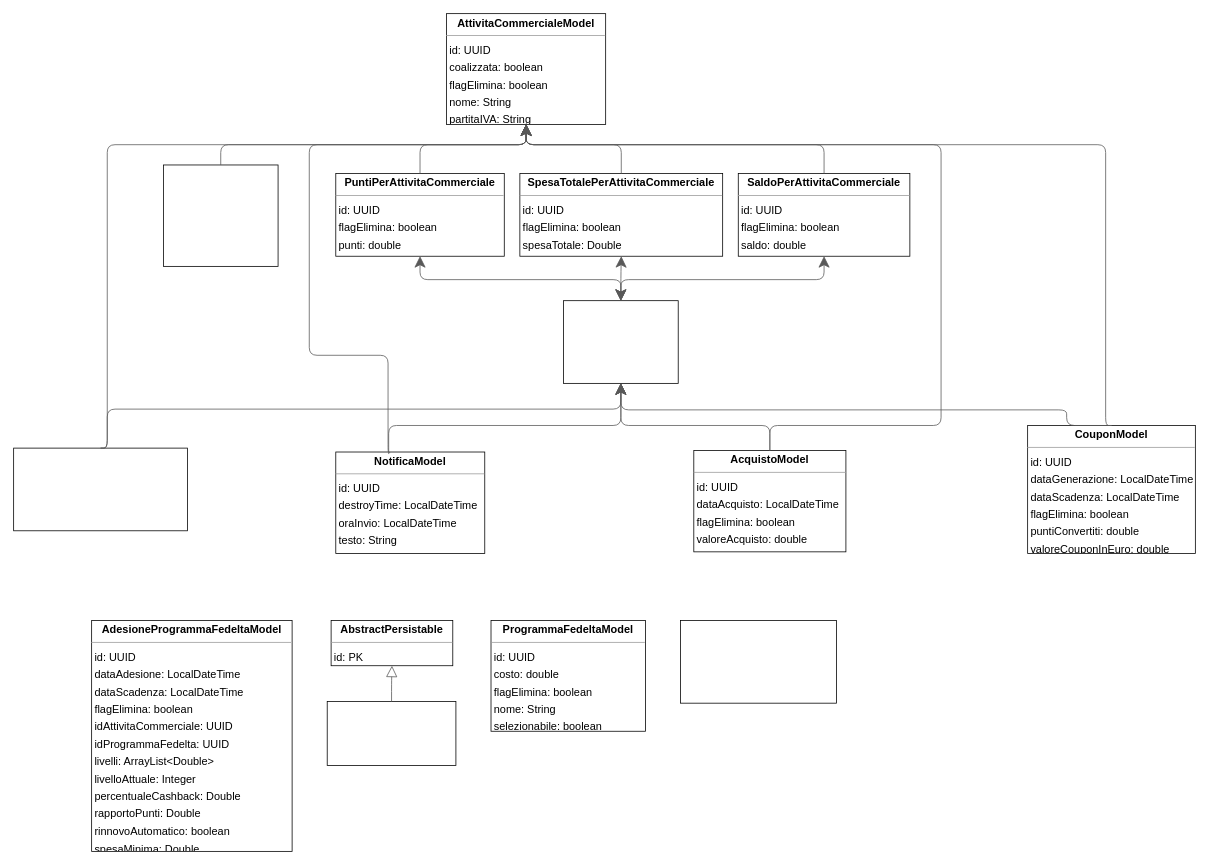
Image size: 1209x868. Some labels were removed from this diagram. The centre of each missing label's shape, as x and y in pixels:
"AbstractAuditable createdDate: Date lastModifiedDate: Date" belongs at pixel 391 733.
"ClienteModel id: UUID flagElimina: boolean nome: String" belongs at pixel 620 341.
"CoalizioneModel id: UUID flagElimina: boolean nome: String numeroAttivita: int" belongs at pixel 220 215.
"GestorePiattaformaModel id: UUID flagElimina: boolean nome: String" belongs at pixel 758 661.
"LivelloPerAttivitaCommerciale id: UUID flagElimina: boolean livello: int" belongs at pixel 100 489.
